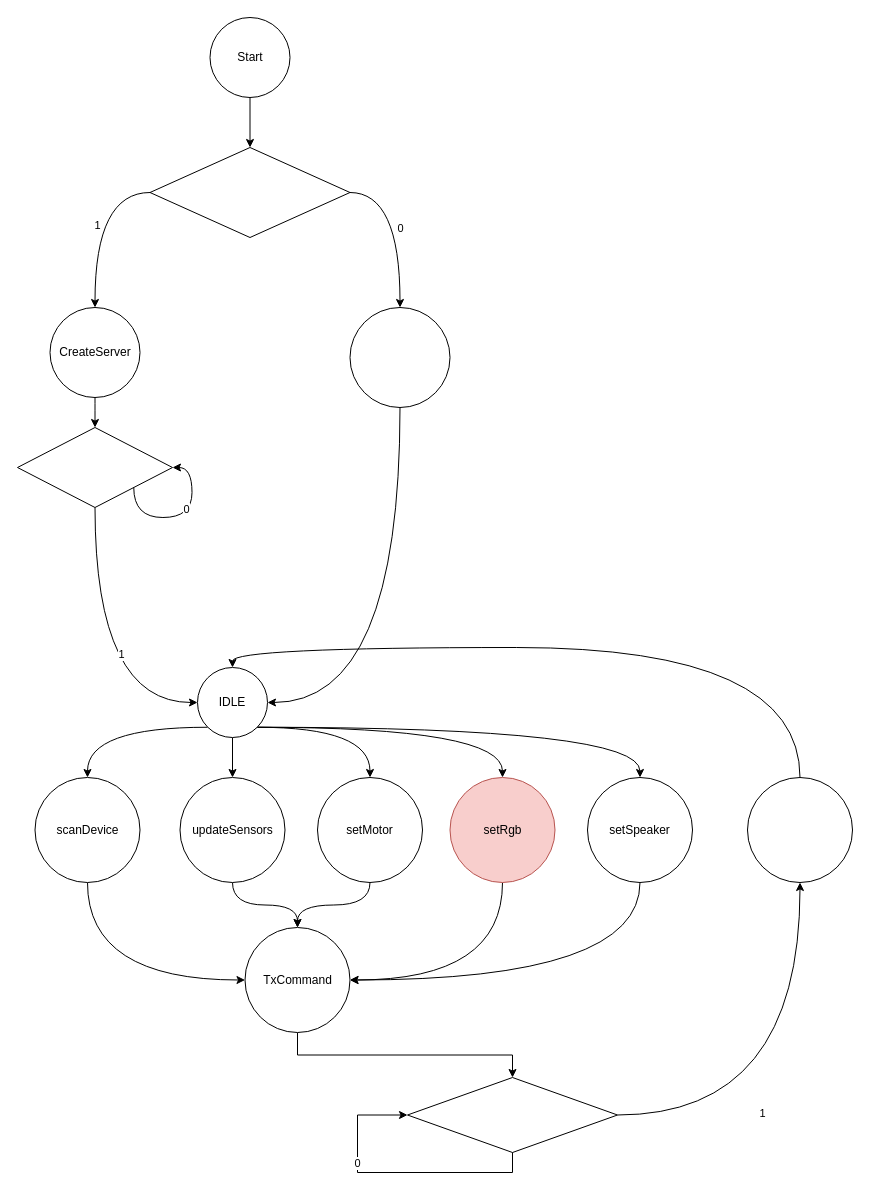
Some shapes in this 870 by 1198 pixel diagram are drawn without their labels. Here are the shapes that lost their labels. From the top down, the centre of each, then its label:
pixel 249 192: isWifi
pixel 399 357: SerialConnection
pixel 94 467: isControllerConnected
pixel 799 829: handleRxBuffer
pixel 512 1114: isControllerDone
